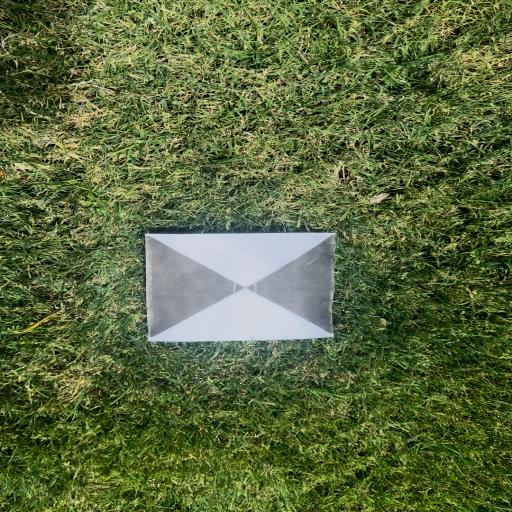target: (146, 234, 332, 339)
